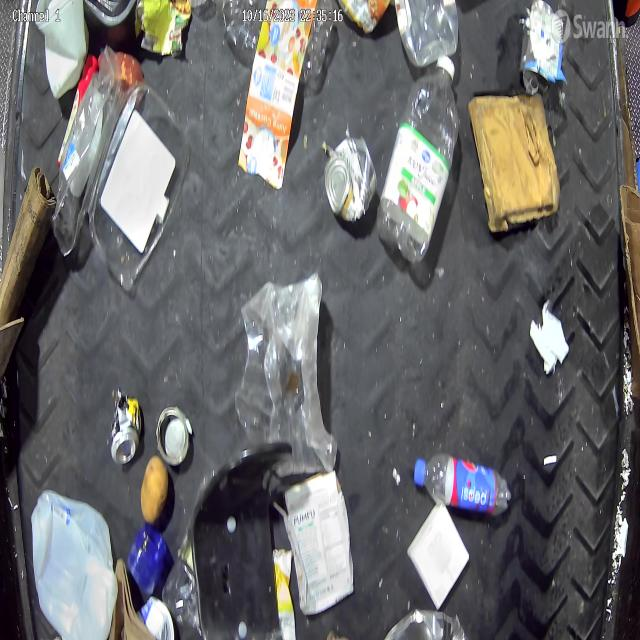can: (323, 134, 378, 222), (519, 0, 555, 96), (109, 387, 142, 465), (156, 403, 193, 468)
milk_jug: (32, 488, 116, 638)
plastic_bottle: (381, 56, 462, 265), (413, 452, 514, 520)
